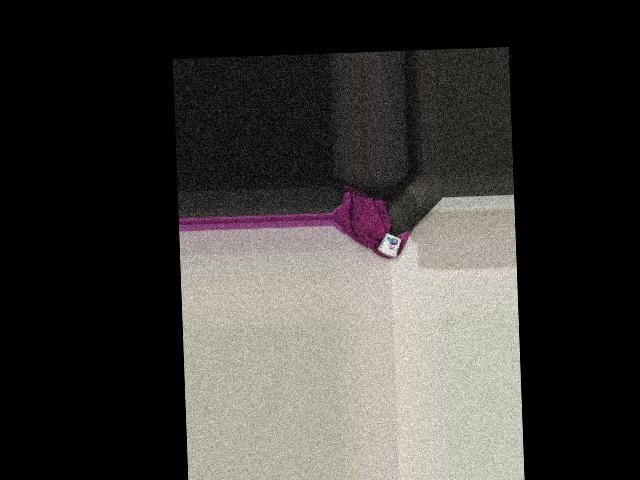cotage: (377, 233, 401, 258)
